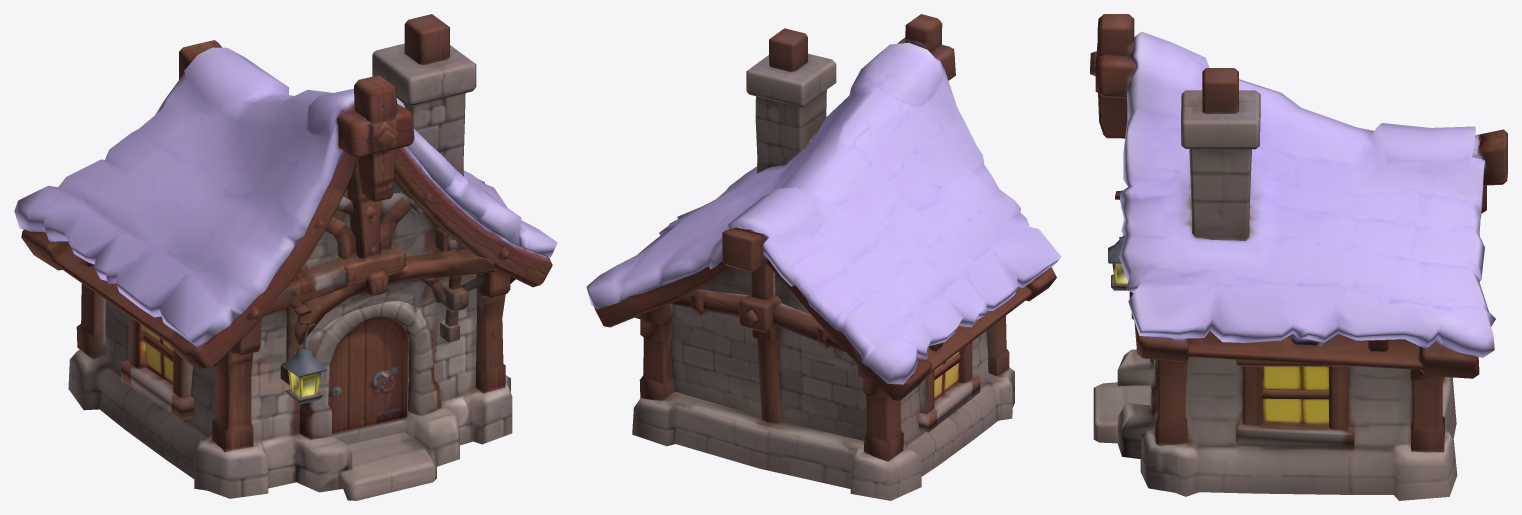
File: user_cottage.glb
3 views of the same model, side by side, from view 1: azimuth 30°, elevation 25°; view 2: azimuth 150°, elevation 25°; view 3: azimuth 270°, elevation 25° (orthographic). The views are drawn at different scales.
Visible parts, largest first — view 1: UserCottage_left; view 2: UserCottage_left; view 3: UserCottage_left.
Part boxes in pixels (x1,y1,x2,y2): UserCottage_left: [14, 14, 557, 500]; UserCottage_left: [586, 14, 1061, 500]; UserCottage_left: [1090, 14, 1507, 500].
Bounding box in the file's own units: 0.3071 × 0.3096 × 0.2944.
1 material, 1 textured.
